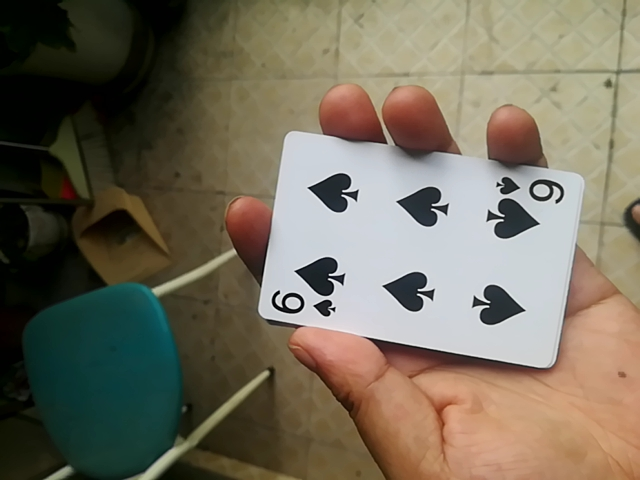ht 6: (263, 138, 590, 365)
